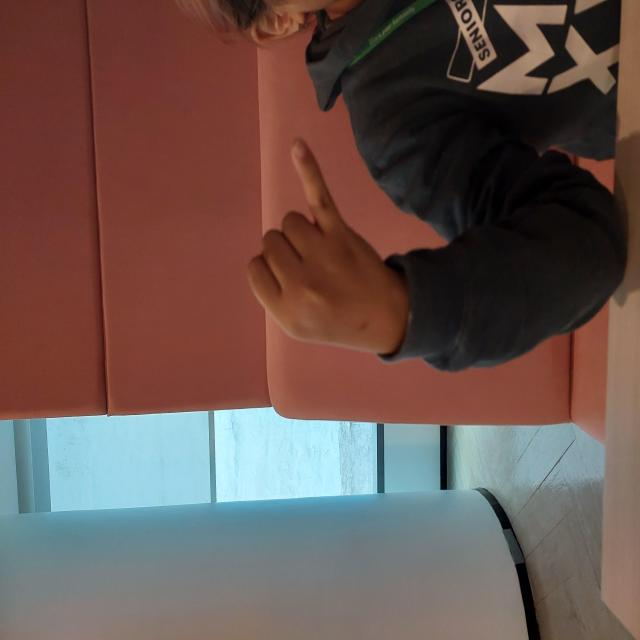J: (274, 244, 508, 411)
